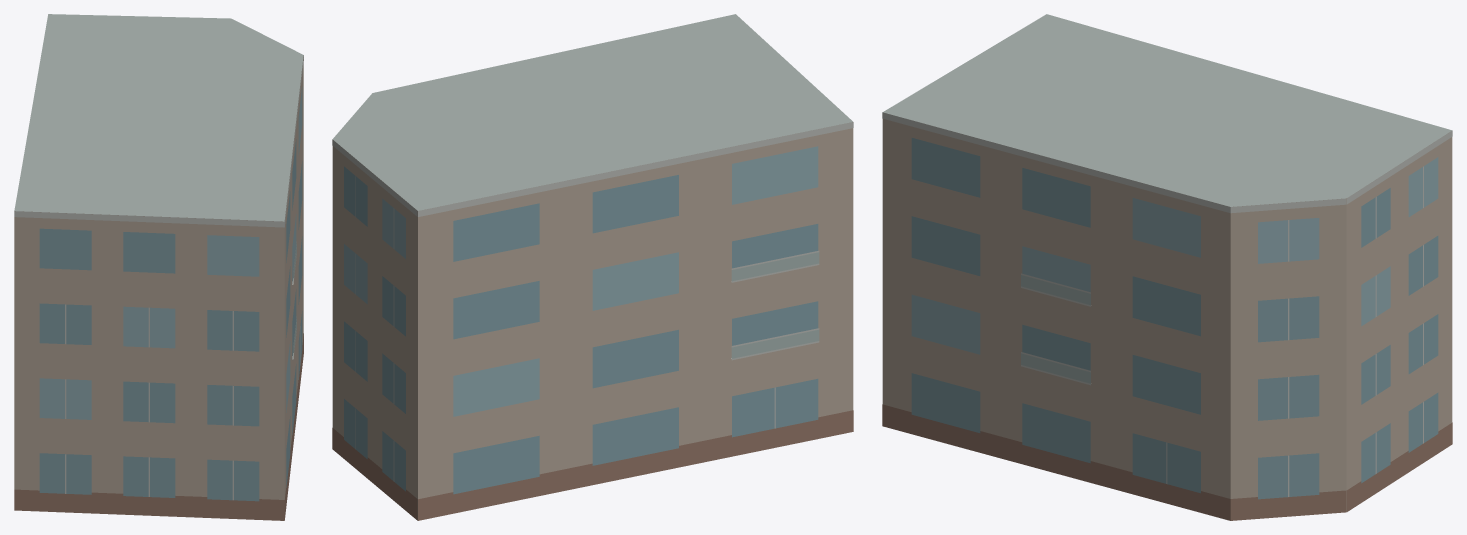
The model's file is survey-upis-32757006.glb.
3 views of the same model, side by side, from view 1: azimuth 30°, elevation 25°; view 2: azimuth 150°, elevation 25°; view 3: azimuth 270°, elevation 25° (orthographic). The views are drawn at different scales.
Visible parts, largest first — view 1: survey-upis-32757006.tmp; view 2: survey-upis-32757006.tmp; view 3: survey-upis-32757006.tmp.
Part boxes in pixels (<box>): survey-upis-32757006.tmp: <box>14,14,303,520</box>; survey-upis-32757006.tmp: <box>332,14,853,520</box>; survey-upis-32757006.tmp: <box>882,14,1452,520</box>.
Bounding box in the file's own units: 16.09 × 12.2 × 20.08.
